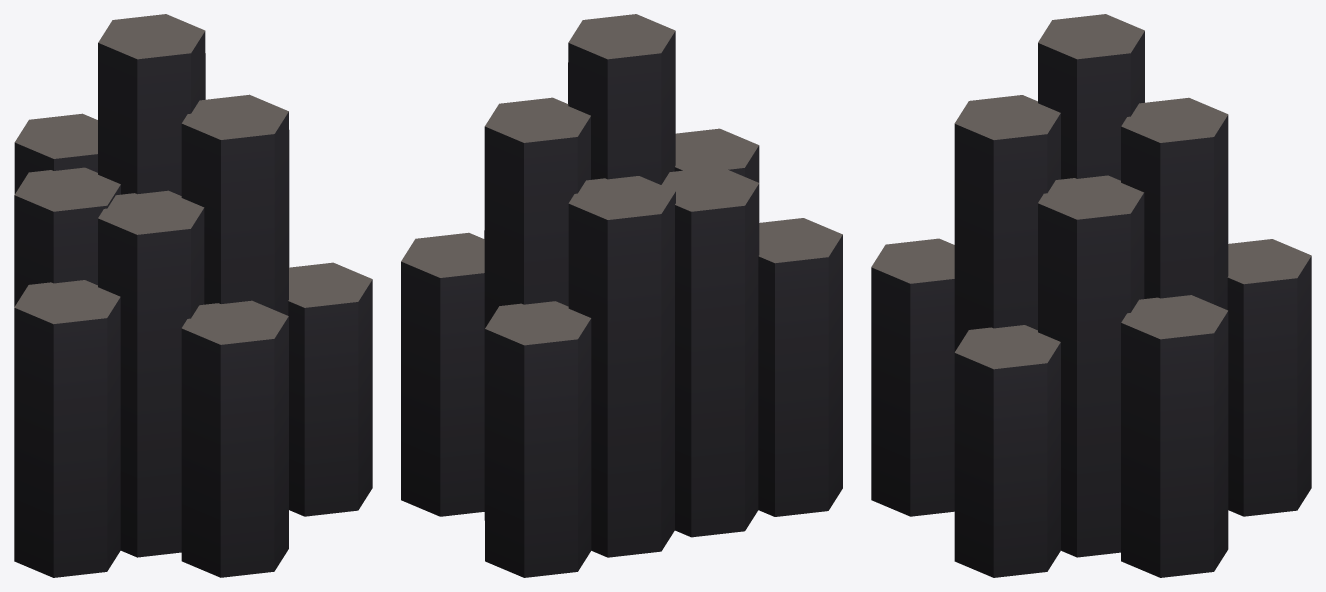
File: basalt_columns_02.fbx
The picture shows the model from 3 angles, left to right: view 1: azimuth 30°, elevation 25°; view 2: azimuth 150°, elevation 25°; view 3: azimuth 270°, elevation 25°; orthographic projection.
Parts seen in each view (by area): view 1: basalt_columns_02_LOD0; view 2: basalt_columns_02_LOD0; view 3: basalt_columns_02_LOD0.
Boxes of the visible parts, x1,y1,x2,y2 form: basalt_columns_02_LOD0: (14, 14, 372, 577); basalt_columns_02_LOD0: (401, 14, 842, 577); basalt_columns_02_LOD0: (871, 14, 1311, 577).
Size of what is drawn, in the model's own units: 2.29 by 2.91 by 2.54.
Materials: 1 (1 with a texture image).
